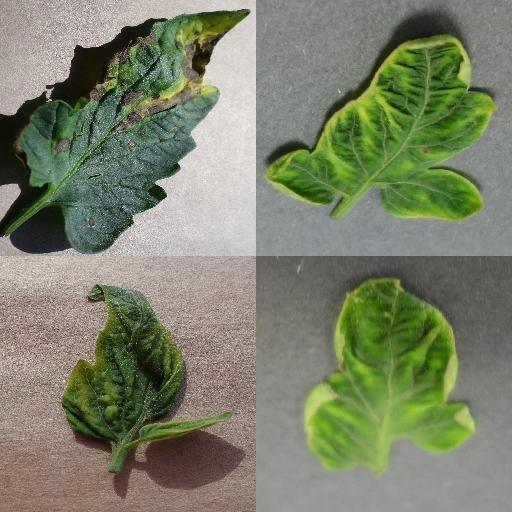Early Blight: (14, 10, 252, 256)
Yellow Leaf Curl Virus: (265, 29, 498, 221), (303, 277, 475, 473), (62, 283, 184, 439)
